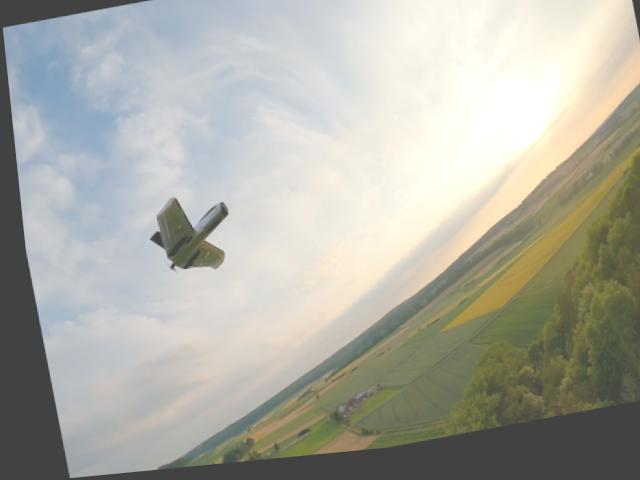plane: (139, 193, 233, 282)
